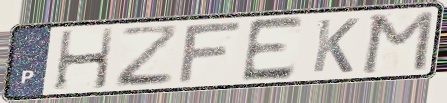E: (238, 14, 306, 84)
F: (174, 19, 246, 86)
H: (52, 26, 116, 93)
K: (309, 17, 362, 75)
M: (358, 9, 437, 76)
Z: (116, 22, 182, 89)
